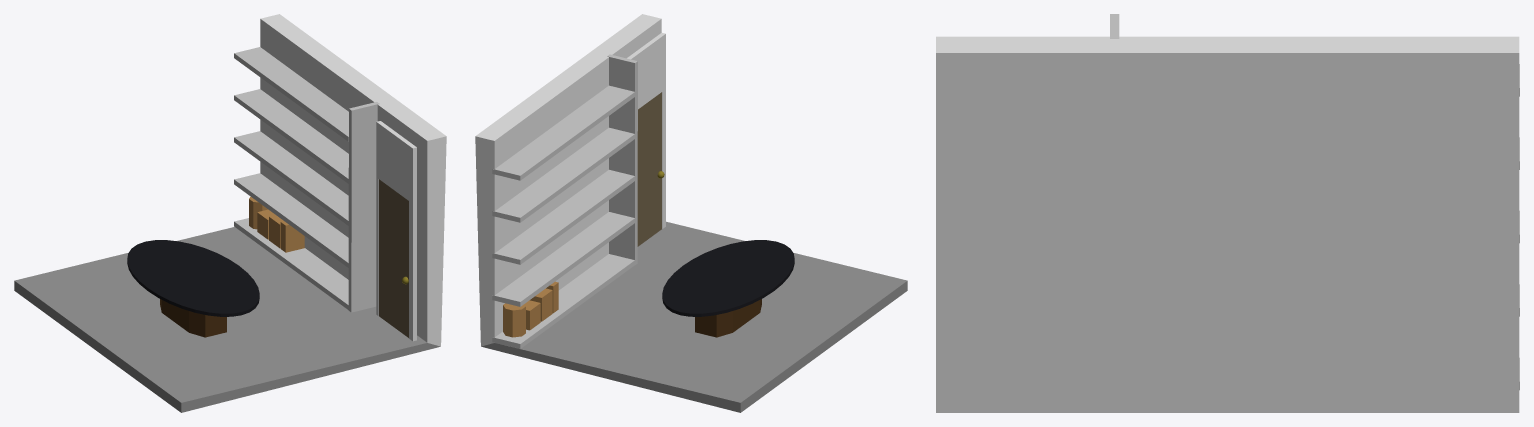
File: Evidence room.fbx
The picture shows the model from 3 angles, left to right: view 1: azimuth 30°, elevation 25°; view 2: azimuth 150°, elevation 25°; view 3: azimuth 270°, elevation 25°; orthographic projection. The views are drawn at different scales.
Visible parts, largest first — view 1: Plane.006, Cube.005, Cube.011, Circle.001, Cube.010, Cube.013, Cube.012; view 2: Plane.006, Cube.005, Circle.001, Cube.011, Cube.010, Cube.013, Cube.012; view 3: Plane.006.
Part boxes in pixels (bbox=[...]): Plane.006: bbox=[14, 14, 446, 412]; Cube.005: bbox=[234, 47, 348, 309]; Cube.011: bbox=[376, 121, 416, 341]; Circle.001: bbox=[127, 240, 259, 316]; Cube.010: bbox=[348, 102, 379, 312]; Cube.013: bbox=[249, 196, 304, 252]; Cube.012: bbox=[160, 299, 226, 337]; Plane.006: bbox=[475, 14, 907, 412]; Cube.005: bbox=[492, 85, 634, 348]; Circle.001: bbox=[662, 240, 794, 316]; Cube.011: bbox=[627, 33, 665, 246]; Cube.010: bbox=[607, 54, 637, 264]; Cube.013: bbox=[503, 281, 558, 337]; Cube.012: bbox=[695, 299, 761, 337]; Plane.006: bbox=[936, 36, 1519, 412].
Size of the model in its own units: 2834 by 2166 by 3093.
